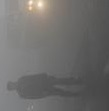person: (6, 72, 84, 100)
